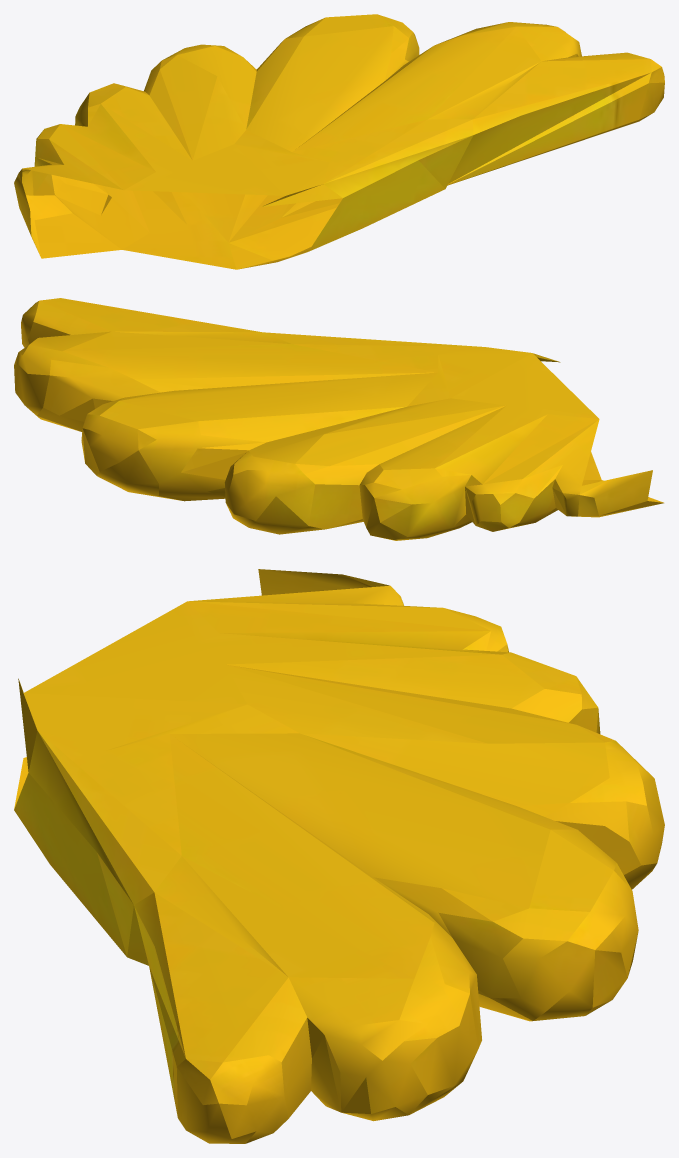
The model's file is duck_wing.glb.
3 renders of one model, top to bottom at view 1: azimuth 30°, elevation 25°; view 2: azimuth 150°, elevation 25°; view 3: azimuth 270°, elevation 25°, orthographic. The views are drawn at different scales.
Visible parts, largest first — view 1: duck_wing; view 2: duck_wing; view 3: duck_wing.
Boxes of the visible parts, x1=… form: duck_wing: x1=14, y1=14, x2=664, y2=269; duck_wing: x1=14, y1=298, x2=663, y2=540; duck_wing: x1=14, y1=569, x2=664, y2=1143.
Bounding box in the file's own units: 1.12 × 0.1293 × 0.5918.
1 material, 1 textured.
